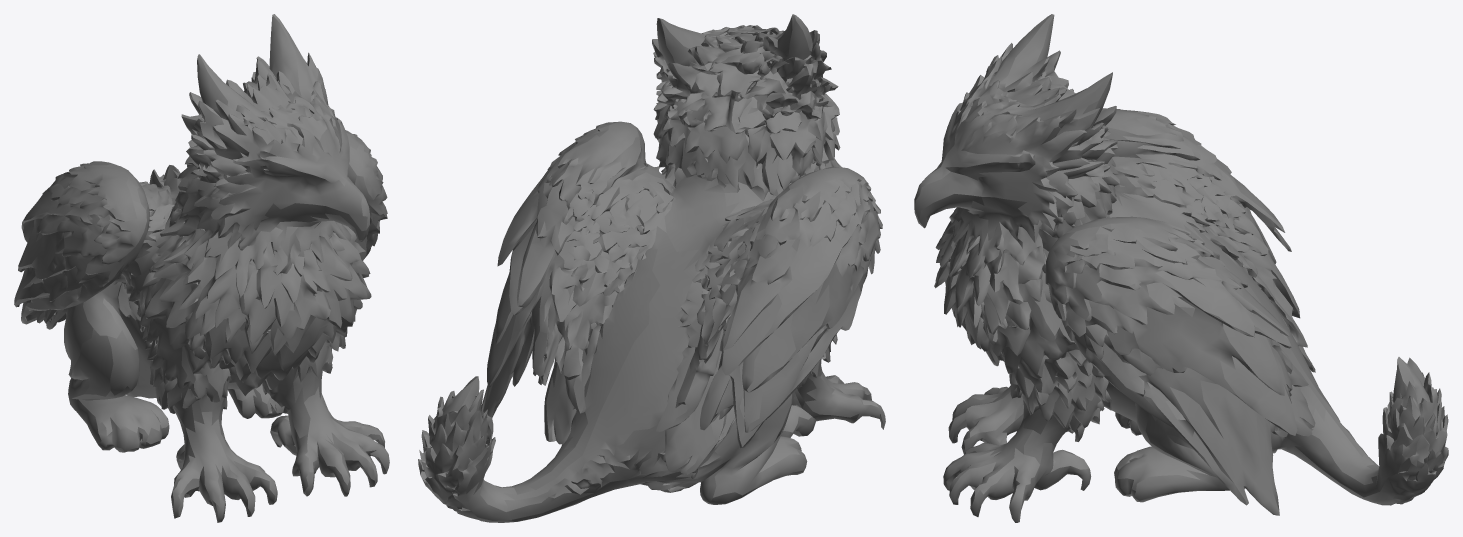
File: completion_griffin_0.glb
3 views of the same model, side by side, from view 1: azimuth 30°, elevation 25°; view 2: azimuth 150°, elevation 25°; view 3: azimuth 270°, elevation 25° (orthographic).
Parts seen in each view (by area): view 1: geometry_0; view 2: geometry_0; view 3: geometry_0.
Boxes of the visible parts, x1=… form: geometry_0: x1=14, y1=14, x2=389, y2=522; geometry_0: x1=418, y1=14, x2=885, y2=522; geometry_0: x1=914, y1=14, x2=1448, y2=522.
Size of the model in its own units: 0.7115 by 0.8885 by 0.9984.
Materials: 1 (1 with a texture image).
